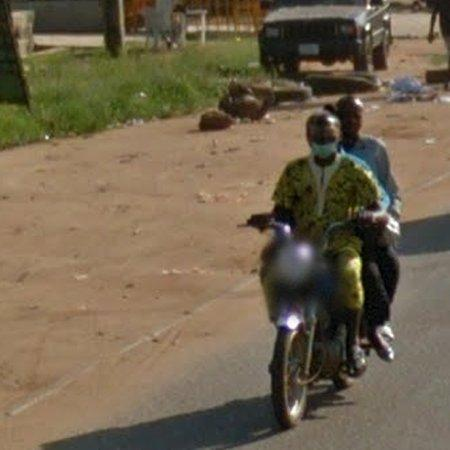motorcycles: (260, 220, 346, 429)
